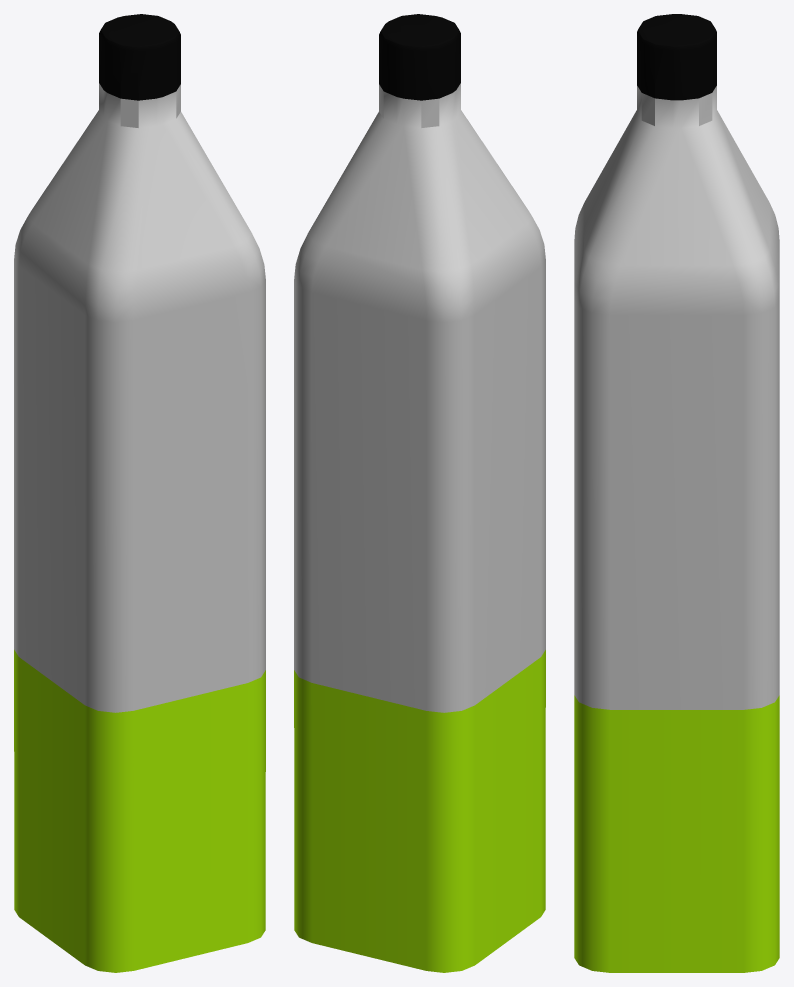
The model's file is OliveOil.fbx.
The picture shows the model from 3 angles, left to right: view 1: azimuth 30°, elevation 25°; view 2: azimuth 150°, elevation 25°; view 3: azimuth 270°, elevation 25°; orthographic projection.
Parts seen in each view (by area): view 1: OilBottle; view 2: OilBottle; view 3: OilBottle.
Part boxes in pixels (x1,y1,x2,y2): OilBottle: [14, 14, 265, 972]; OilBottle: [294, 14, 545, 972]; OilBottle: [574, 14, 779, 972].
Bounding box in the file's own units: 0.084 × 0.406 × 0.084.
